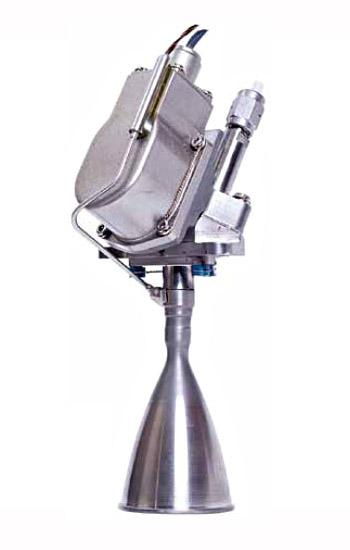thruster: (116, 307, 238, 520)
